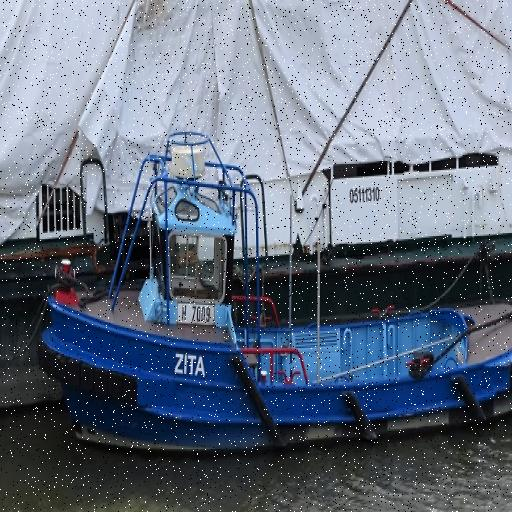tugboat: (31, 125, 512, 464)
